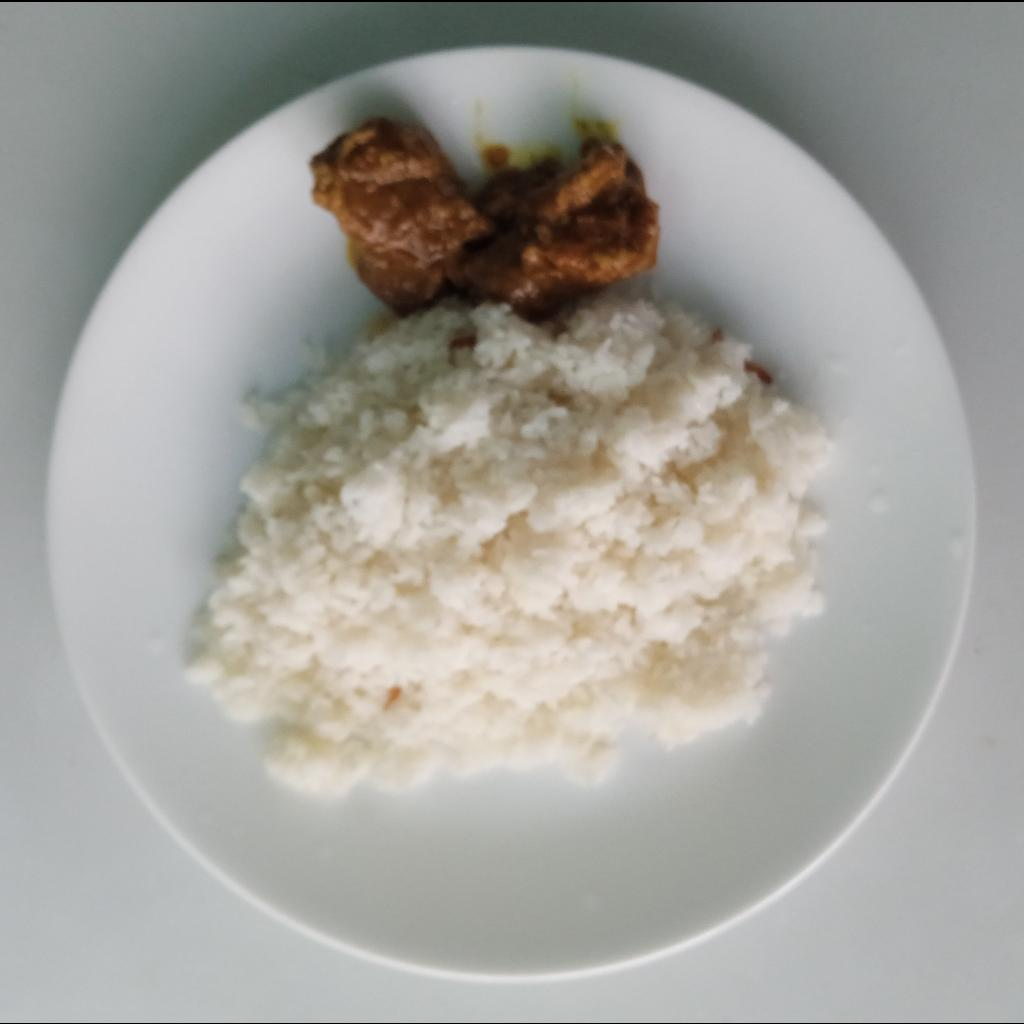beef: (309, 113, 661, 315)
rice: (185, 291, 833, 801)
